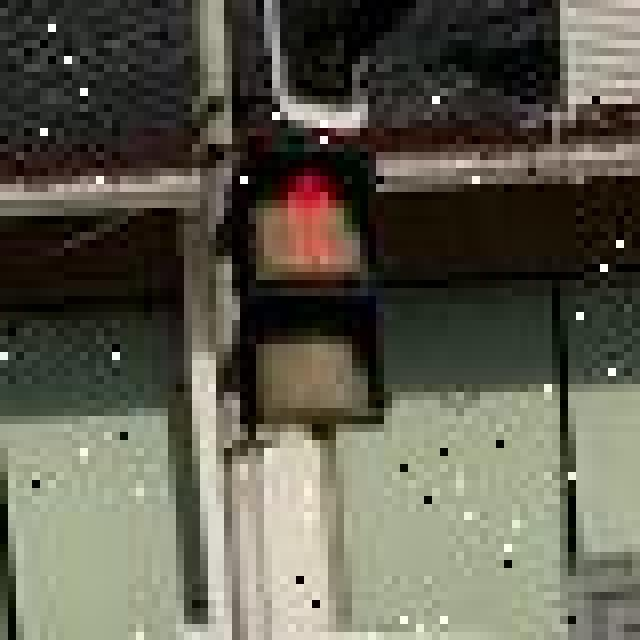redlight: (217, 152, 385, 414)
